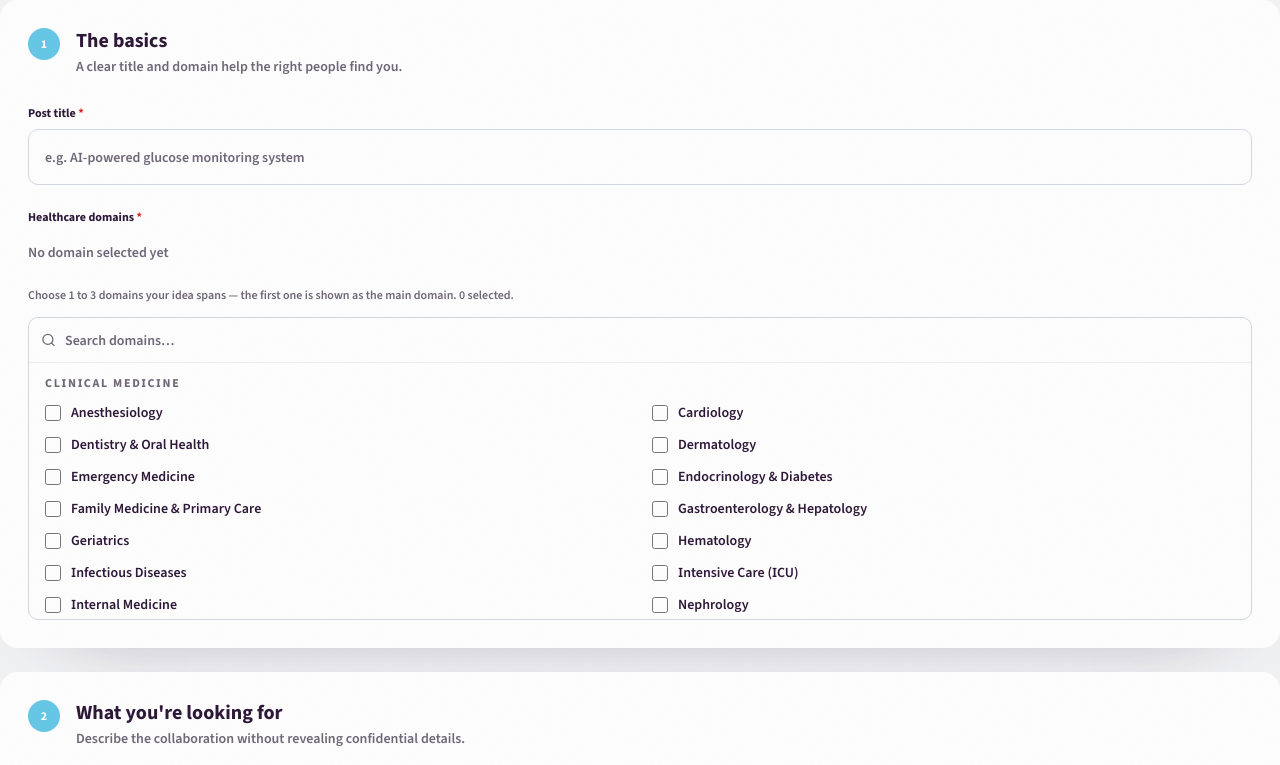
Test: PostFormFields › says AI is not set up, rather than "try again", when the server has no AI configured
In the field with placeholder "e.g. AI-powered glucose monitoring system": (640, 157) [28,129,1252,185], type "Postpartum bleeding alerts"
(page scrolled)
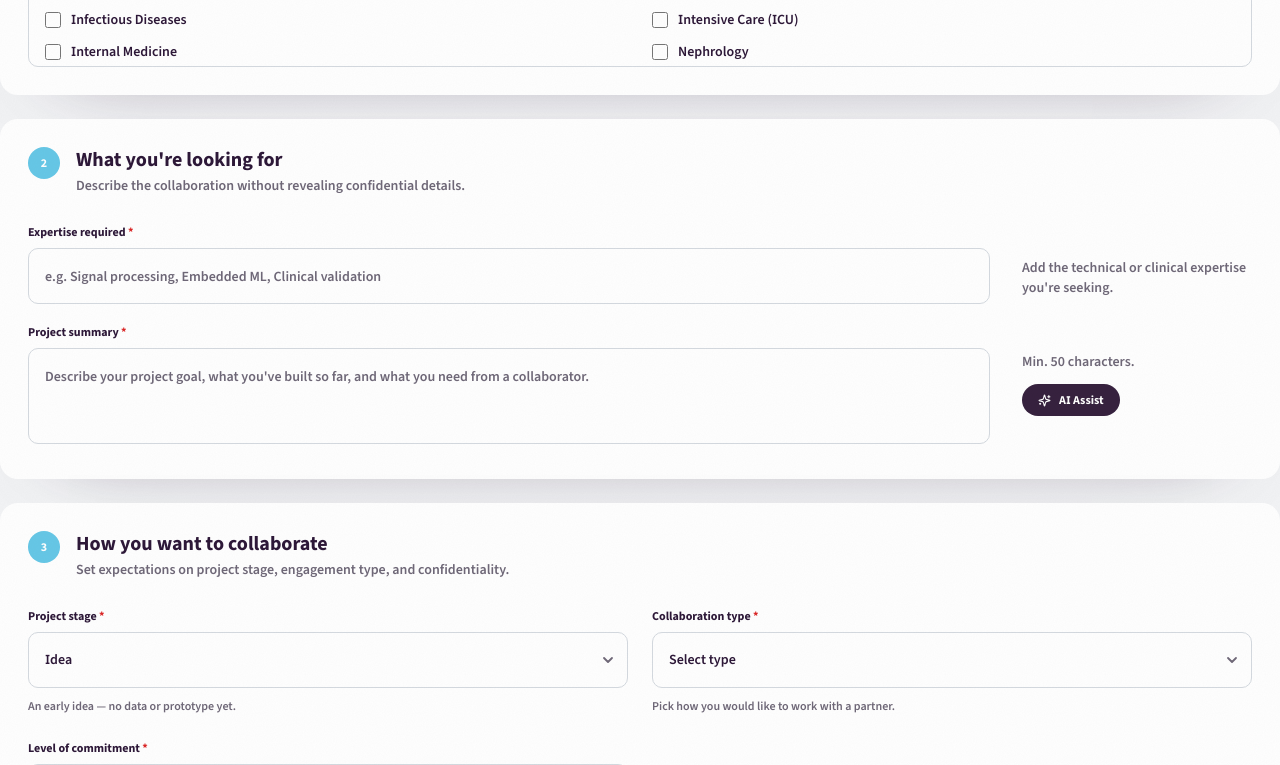
Click the button "AI Assist": (1071, 400) [1022,384,1120,416]
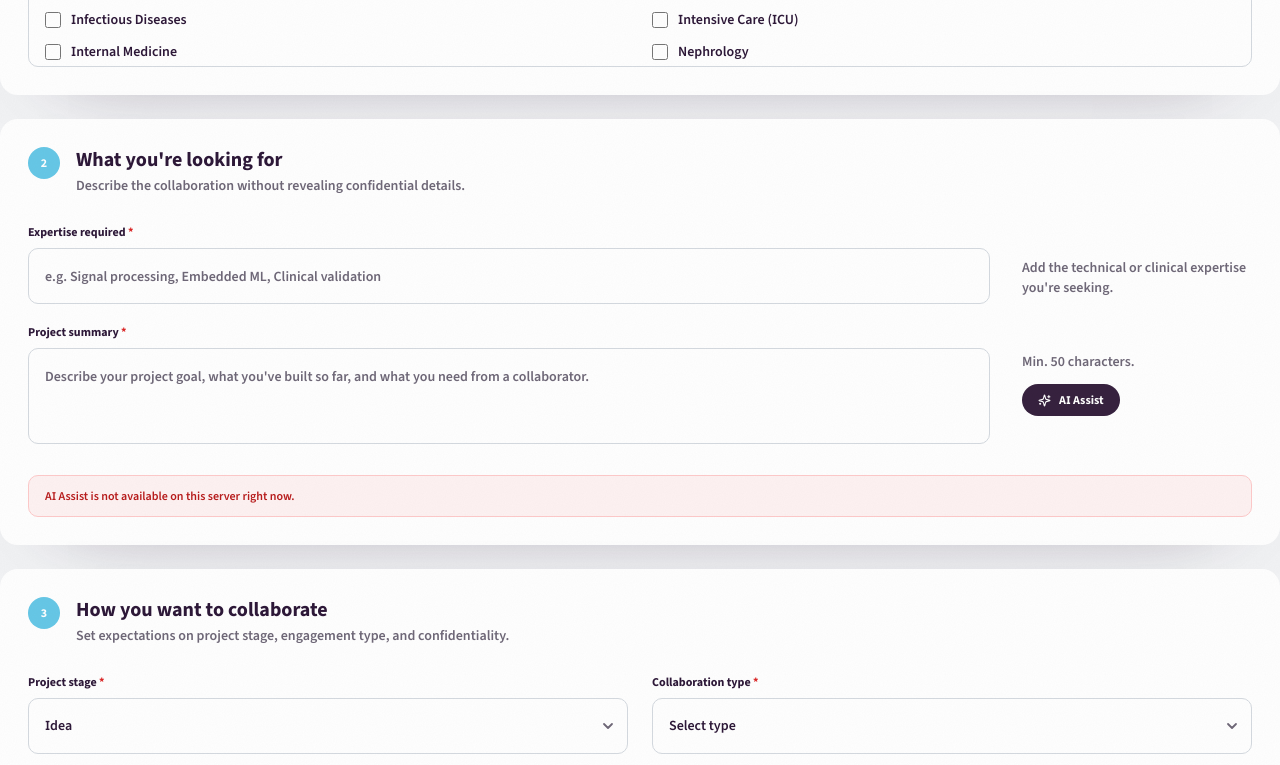
Expected: the text "AI Assist is not available on this server right now." is shown, [28,475,1252,517]
